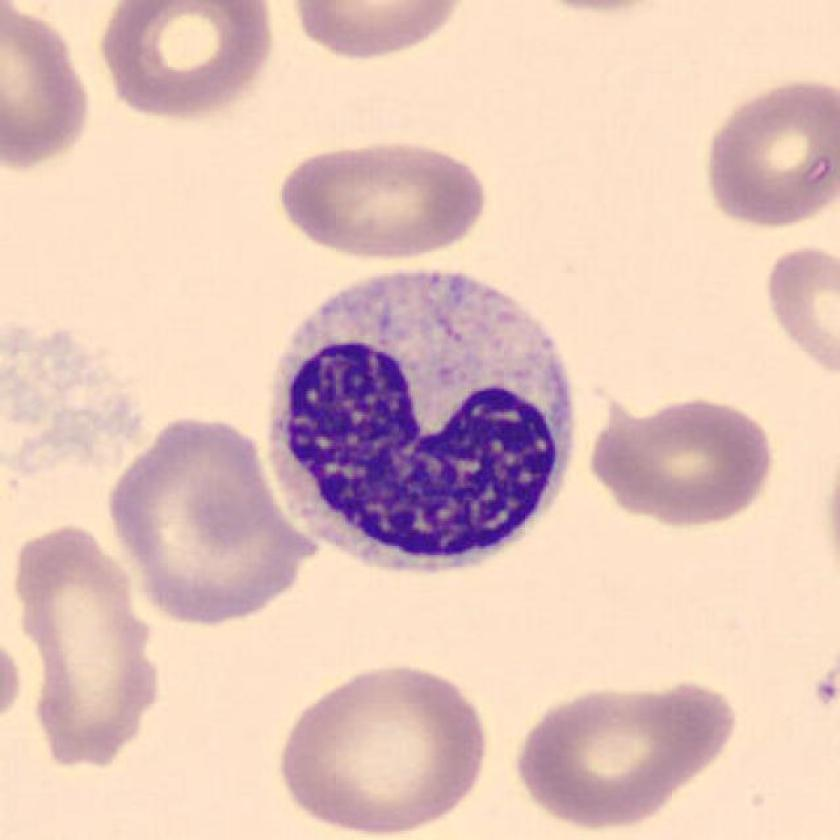neutrophil: (265, 270, 573, 572)
